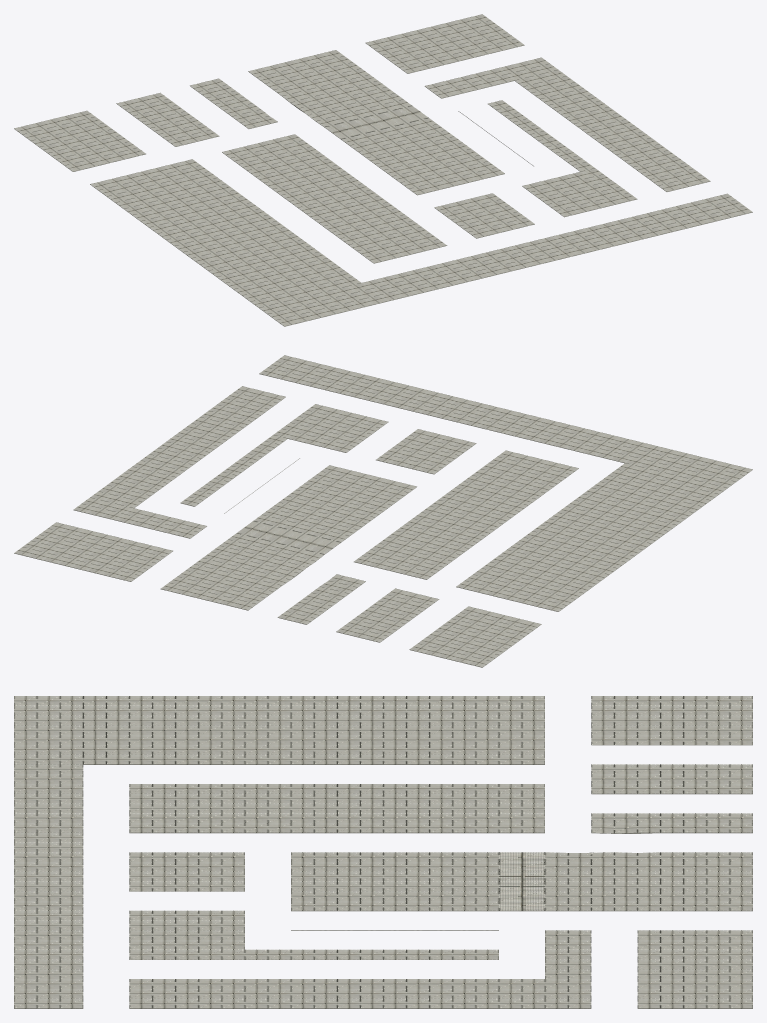
File: sole.obj
3 renders of one model, top to bottom at view 1: azimuth 30°, elevation 25°; view 2: azimuth 150°, elevation 25°; view 3: azimuth 270°, elevation 25°, orthographic. The views are drawn at different scales.
Parts seen in each view (by area): view 1: Plane.008; view 2: Plane.008; view 3: Plane.008.
Boxes of the visible parts, x1,y1,x2,y2 form: Plane.008: (14, 14, 752, 326); Plane.008: (14, 355, 752, 667); Plane.008: (14, 696, 752, 1008).
Size of the model in its own units: 3960 by 7.9 by 3960.
